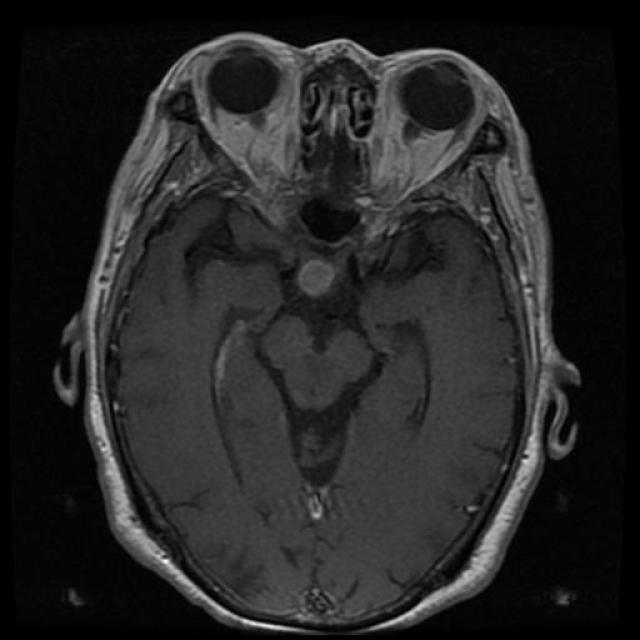pituitary: (258, 216, 383, 322)
